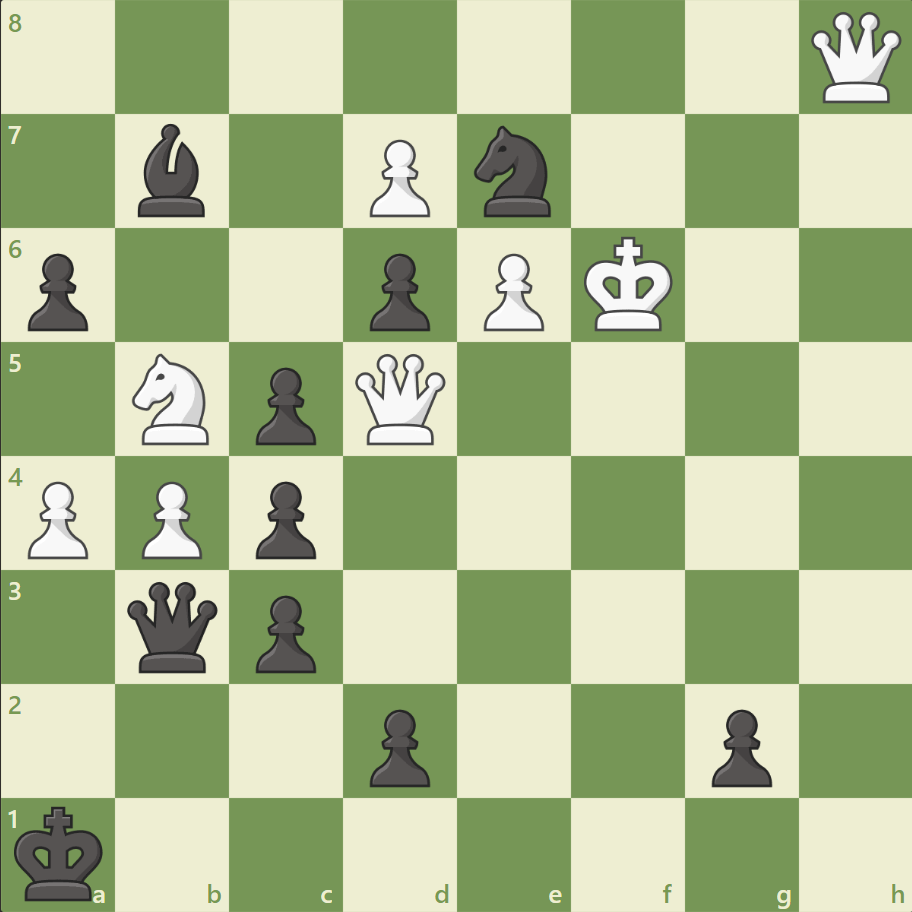K: (579, 231, 679, 339)
N: (124, 348, 222, 450)
P: (474, 246, 549, 337), (20, 473, 95, 564), (133, 473, 208, 564), (361, 132, 435, 223)
Q: (351, 349, 450, 449), (805, 9, 904, 108)
b: (131, 120, 215, 222)
k: (11, 798, 111, 906)
n: (465, 121, 562, 223)
p: (20, 246, 95, 337), (247, 359, 322, 450), (247, 473, 322, 564), (247, 586, 322, 677), (701, 700, 776, 791), (361, 246, 435, 337), (361, 700, 435, 791)
q: (124, 576, 223, 676)
